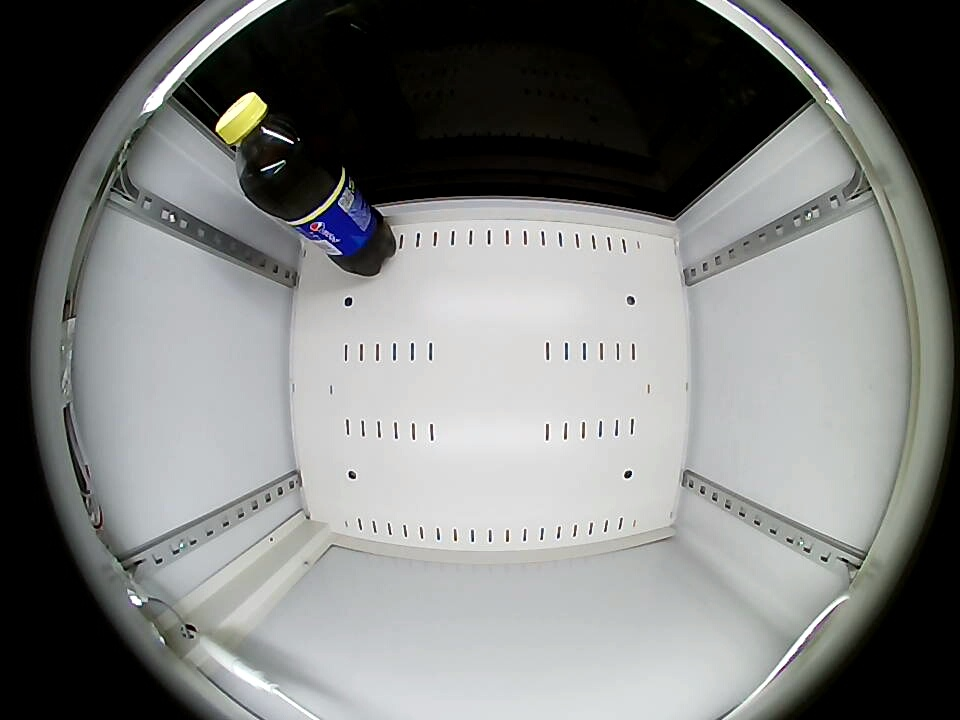baishikele: (216, 92, 308, 194)
